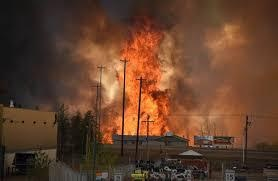fire: (91, 23, 175, 138)
